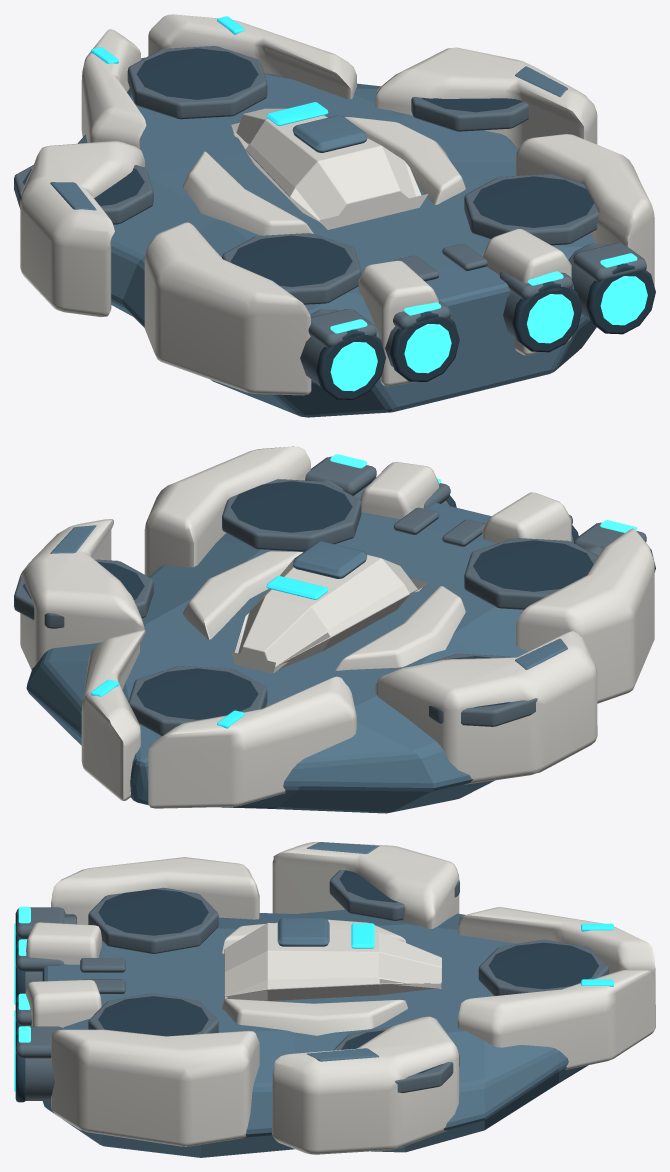
File: heavy_battleship.glb
The picture shows the model from 3 angles, top to bottom: view 1: azimuth 30°, elevation 25°; view 2: azimuth 150°, elevation 25°; view 3: azimuth 270°, elevation 25°; orthographic projection. The views are drawn at different scales.
Visible parts, largest first — view 1: HullArmor, Engine01Mesh, Engine04Mesh, Engine03Mesh, Engine02Mesh; view 2: HullArmor; view 3: HullArmor, Engine04Mesh, Engine02Mesh.
Boxes of the visible parts, x1=… form: HullArmor: x1=14, y1=14, x2=654, y2=417; Engine01Mesh: x1=300, y1=309, x2=385, y2=399; Engine04Mesh: x1=568, y1=243, x2=655, y2=334; Engine03Mesh: x1=503, y1=281, x2=581, y2=352; Engine02Mesh: x1=385, y1=311, x2=459, y2=381; HullArmor: x1=14, y1=446, x2=654, y2=813; HullArmor: x1=15, y1=842, x2=655, y2=1157; Engine04Mesh: x1=14, y1=1034, x2=54, y2=1102; Engine02Mesh: x1=14, y1=947, x2=42, y2=1004.
Size of the model in its own units: 6.03 by 1.86 by 6.81.
